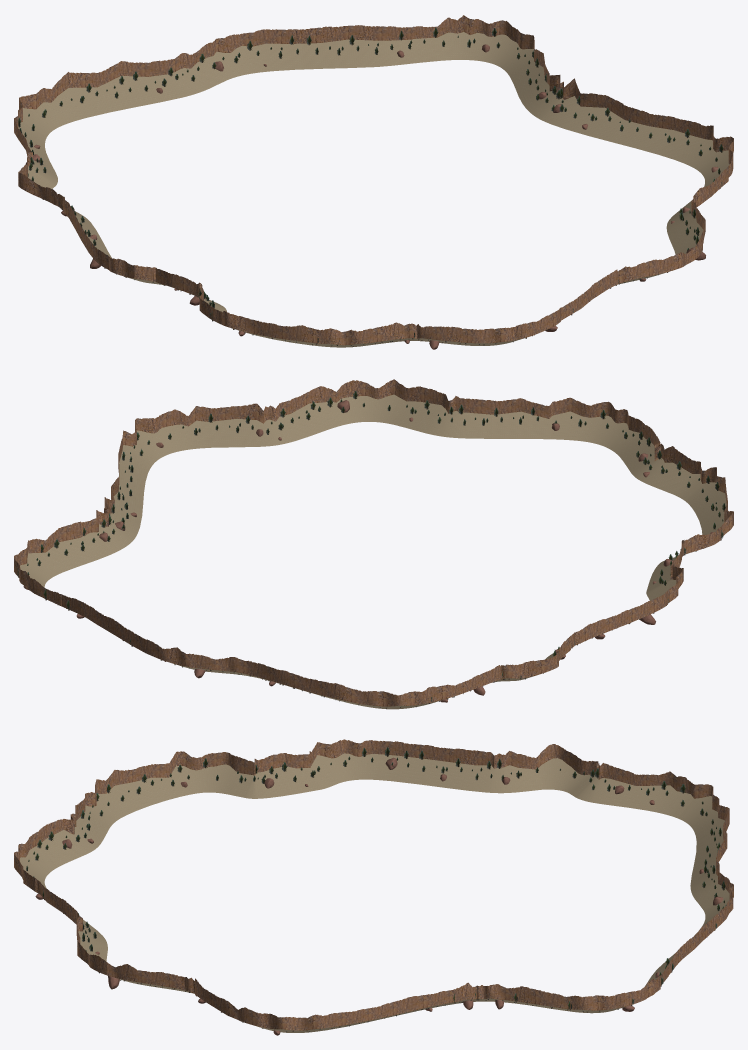
3 renders of one model, top to bottom at view 1: azimuth 30°, elevation 25°; view 2: azimuth 150°, elevation 25°; view 3: azimuth 270°, elevation 25°, orthographic. The views are drawn at different scales.
Parts seen in each view (by area): view 1: Wall_08, Wall_07, Wall_00, Wall_09, Wall_03, Wall_04, Wall_06, Wall_01, Wall_02, Wall_05, Trees_08; view 2: Wall_02, Wall_01, Wall_03, Wall_09, Wall_00, Wall_07, Wall_04, Wall_06, Wall_08, Wall_05; view 3: Wall_05, Wall_06, Wall_04, Wall_03, Wall_07, Wall_00, Wall_09, Wall_01, Wall_02, Wall_08, Trees_04, Trees_05.
Boxes of the visible parts, x1,y1,x2,y2 form: Wall_08: [197, 25, 418, 84]; Wall_07: [19, 52, 216, 136]; Wall_00: [540, 78, 733, 175]; Wall_09: [412, 15, 563, 119]; Wall_03: [341, 307, 560, 347]; Wall_04: [172, 274, 341, 347]; Wall_06: [14, 107, 88, 220]; Wall_01: [666, 144, 733, 254]; Wall_02: [559, 236, 702, 320]; Wall_05: [63, 198, 172, 287]; Trees_08: [199, 30, 412, 69]; Wall_02: [342, 379, 552, 439]; Wall_01: [146, 385, 352, 455]; Wall_03: [551, 397, 705, 500]; Wall_09: [14, 508, 132, 606]; Wall_00: [104, 418, 165, 540]; Wall_07: [215, 657, 414, 709]; Wall_04: [650, 467, 733, 580]; Wall_06: [409, 632, 574, 708]; Wall_08: [61, 594, 220, 672]; Wall_05: [575, 553, 683, 645]; Wall_05: [285, 739, 493, 793]; Wall_06: [490, 744, 694, 818]; Wall_04: [95, 751, 296, 820]; Wall_03: [14, 791, 116, 891]; Wall_07: [678, 784, 729, 903]; Wall_00: [275, 982, 477, 1032]; Wall_09: [473, 964, 668, 1013]; Wall_01: [106, 962, 281, 1032]; Wall_02: [35, 878, 107, 974]; Wall_08: [645, 876, 733, 985]; Trees_04: [96, 758, 287, 805]; Trees_05: [293, 747, 492, 781].
Size of what is drawn, in the model's own units: 613 by 35.74 by 669.
